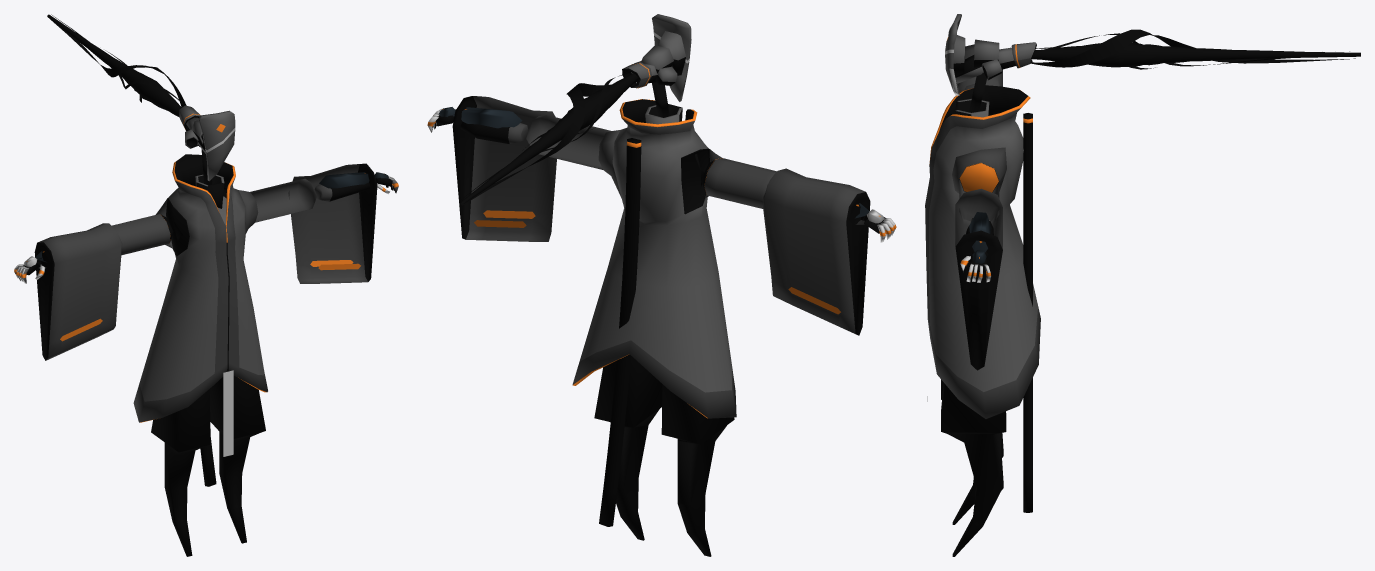
The model's file is Makoto.obj.
3 views of the same model, side by side, from view 1: azimuth 30°, elevation 25°; view 2: azimuth 150°, elevation 25°; view 3: azimuth 270°, elevation 25° (orthographic). The views are drawn at different scales.
Parts seen in each view (by area): view 1: Circle, Circle.007, legs, Circle.004, BezierCurve, Circle.002, Cube.002, Circle.006, Plane, Circle.005, Cube.028, Cube.007 (+2 smaller); view 2: Circle, Circle.007, legs, Circle.004, Cube.032, BezierCurve, Circle.006, Circle.002, Circle.005, Cube.002, Cube.007, Cube.028 (+3 smaller); view 3: Circle, BezierCurve, Circle.004, legs, Cube.032, Circle.003, Cube.002, Cube.003.
Part boxes in pixels (x1,y1,x2,y2): Circle: (133, 154, 267, 422); Circle.007: (34, 223, 122, 360); legs: (151, 375, 265, 556); Circle.004: (288, 163, 377, 283); BezierCurve: (47, 14, 186, 116); Circle.002: (250, 178, 316, 222); Cube.002: (198, 110, 235, 181); Circle.006: (112, 214, 173, 255); Plane: (223, 370, 233, 456); Circle.005: (155, 198, 189, 256); Cube.028: (319, 172, 376, 188); Cube.007: (314, 182, 370, 201); Circle: (572, 99, 736, 418); Circle.007: (763, 168, 870, 335); legs: (594, 356, 734, 556); Circle.004: (452, 96, 558, 241); Cube.032: (599, 138, 641, 526); BezierCurve: (460, 72, 638, 205); Circle.006: (701, 158, 776, 208); Circle.002: (526, 115, 611, 169); Circle.005: (681, 149, 722, 214); Cube.002: (652, 14, 691, 101); Cube.007: (460, 121, 528, 144); Cube.028: (452, 107, 522, 128); Circle: (925, 85, 1040, 418); BezierCurve: (1030, 29, 1360, 69); Circle.004: (955, 188, 1002, 370); legs: (941, 379, 1006, 556); Cube.032: (1023, 113, 1032, 512); Circle.003: (952, 147, 1006, 193); Cube.002: (945, 14, 961, 95); Cube.003: (974, 39, 999, 67).
Bounding box in the file's own units: 1.64 × 1.81 × 1.38.
